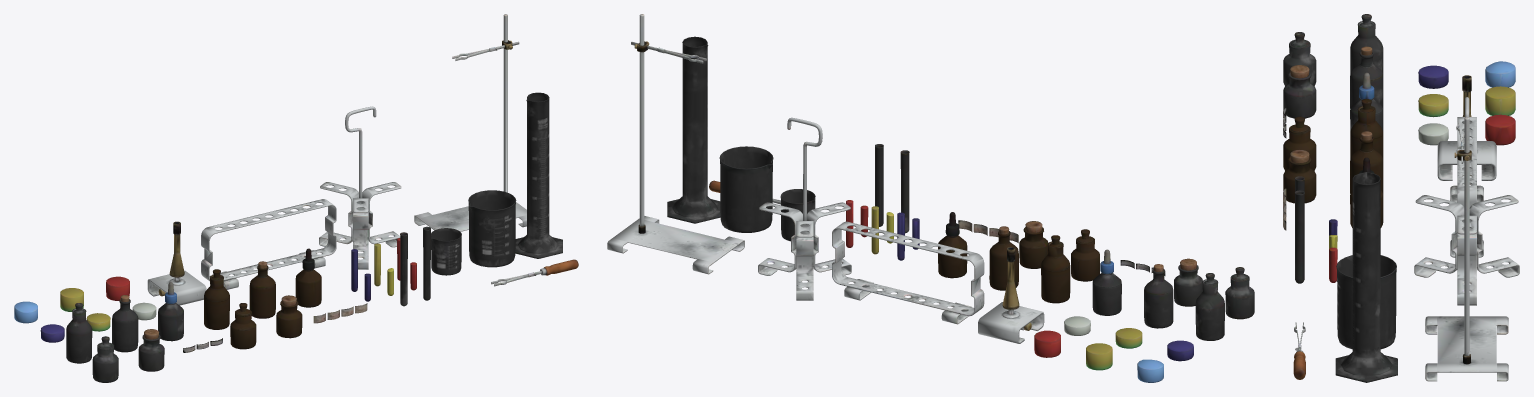
File: design-chemistry-set.glb
3 renders of one model, left to right at view 1: azimuth 30°, elevation 25°; view 2: azimuth 150°, elevation 25°; view 3: azimuth 270°, elevation 25°, orthographic. The views are drawn at different scales.
Parts seen in each view (by area): view 1: chemistry_set_beaker_large, chemistry_set_test_tube_content_b; view 2: chemistry_set_beaker_large, chemistry_set_test_tube_content_b; view 3: chemistry_set_beaker_large, chemistry_set_test_tube_content_b.
Boxes of the visible parts, <box> form: chemistry_set_beaker_large: <box>40,92,562,382</box>; chemistry_set_test_tube_content_b: <box>14,14,578,339</box>; chemistry_set_beaker_large: <box>667,36,1254,370</box>; chemistry_set_test_tube_content_b: <box>607,14,1196,382</box>; chemistry_set_beaker_large: <box>1283,14,1515,382</box>; chemistry_set_test_tube_content_b: <box>1290,46,1519,381</box>.
Bounding box in the file's own units: 1.08 × 0.429 × 0.3539.
Materials: 2 (2 with a texture image).
